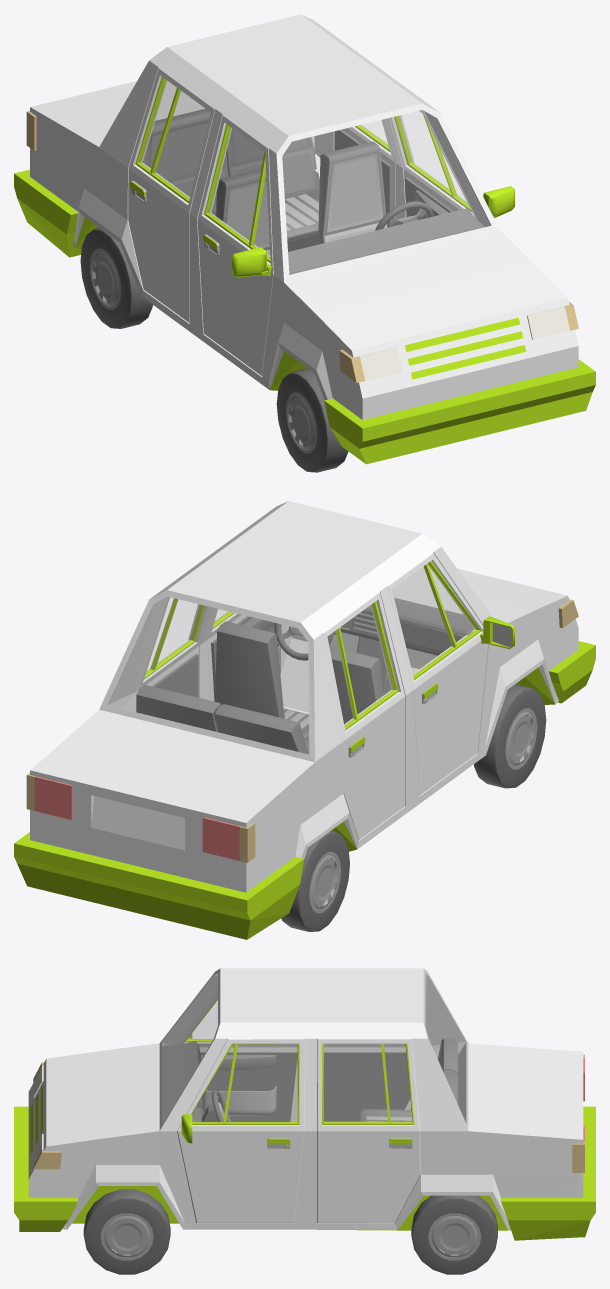
3 renders of one model, top to bottom at view 1: azimuth 30°, elevation 25°; view 2: azimuth 150°, elevation 25°; view 3: azimuth 270°, elevation 25°, orthographic. The views are drawn at different scales.
Visible parts, largest first — view 1: Chassis_Chassis_0, Windows_Windows_0, Chassis_Bumpers_0, Interior_InteriorPanel_0, FR_Door_Chassis_0, RR_Door_Chassis_0, Interior_Handler_0, RR_Door_Windows_0, FR_Door_Windows_0, FR_Wheel_Tire_0, RR_Wheel_Tire_0, FR_Door_Bumpers_0 (+11 smaller); view 2: Chassis_Chassis_0, Windows_Windows_0, Chassis_Bumpers_0, Interior_InteriorPanel_0, FR_Door_Chassis_0, RR_Door_Chassis_0, FR_Door_Windows_0, RR_Door_Windows_0, FR_Wheel_Tire_0, RR_Wheel_Tire_0, Brake_Lights_Brake_lights_0, FR_Door_Bumpers_0 (+11 smaller); view 3: Chassis_Chassis_0, FL_Door_Chassis_0, RL_Door_Chassis_0, Chassis_Bumpers_0, Windows_Windows_0, FL_Door_Windows_0, RL_Door_Windows_0, RR_Door_InteriorPanel_0, FL_Wheel_Tire_0, RL_Wheel_Tire_0, FR_Door_InteriorPanel_0, Interior_InteriorPanel_0 (+9 smaller).
Part boxes in pixels (<box>): Chassis_Chassis_0: <box>30,14,578,419</box>; Windows_Windows_0: <box>156,82,489,273</box>; Chassis_Bumpers_0: <box>14,169,595,464</box>; Interior_InteriorPanel_0: <box>142,108,484,274</box>; FR_Door_Chassis_0: <box>197,115,273,375</box>; RR_Door_Chassis_0: <box>128,68,215,322</box>; Interior_Handler_0: <box>226,153,386,255</box>; RR_Door_Windows_0: <box>139,80,209,198</box>; FR_Door_Windows_0: <box>208,127,269,258</box>; FR_Wheel_Tire_0: <box>276,368,348,472</box>; RR_Wheel_Tire_0: <box>80,227,152,328</box>; FR_Door_Bumpers_0: <box>203,124,271,277</box>; Chassis_Chassis_0: <box>30,501,578,892</box>; Windows_Windows_0: <box>108,568,461,753</box>; Chassis_Bumpers_0: <box>14,641,595,939</box>; Interior_InteriorPanel_0: <box>136,601,473,754</box>; FR_Door_Chassis_0: <box>387,553,488,795</box>; RR_Door_Chassis_0: <box>323,592,405,839</box>; FR_Door_Windows_0: <box>392,563,477,675</box>; RR_Door_Windows_0: <box>328,604,395,726</box>; FR_Wheel_Tire_0: <box>474,684,546,788</box>; RR_Wheel_Tire_0: <box>281,830,349,931</box>; Brake_Lights_Brake_lights_0: <box>34,776,239,860</box>; FR_Door_Bumpers_0: <box>413,561,514,701</box>; Chassis_Chassis_0: <box>28,968,583,1229</box>; FL_Door_Chassis_0: <box>177,1038,304,1223</box>; RL_Door_Chassis_0: <box>317,1038,420,1223</box>; Chassis_Bumpers_0: <box>14,1085,595,1240</box>; Windows_Windows_0: <box>164,974,465,1120</box>; FL_Door_Windows_0: <box>192,1044,297,1122</box>; RL_Door_Windows_0: <box>324,1044,411,1121</box>; RR_Door_InteriorPanel_0: <box>324,1052,410,1121</box>; FL_Wheel_Tire_0: <box>83,1189,170,1274</box>; RL_Wheel_Tire_0: <box>411,1195,497,1274</box>; FR_Door_InteriorPanel_0: <box>200,1052,297,1121</box>; Interior_InteriorPanel_0: <box>162,1038,457,1123</box>.
Size of the model in its own units: 5.2 by 4.99 by 11.18.
